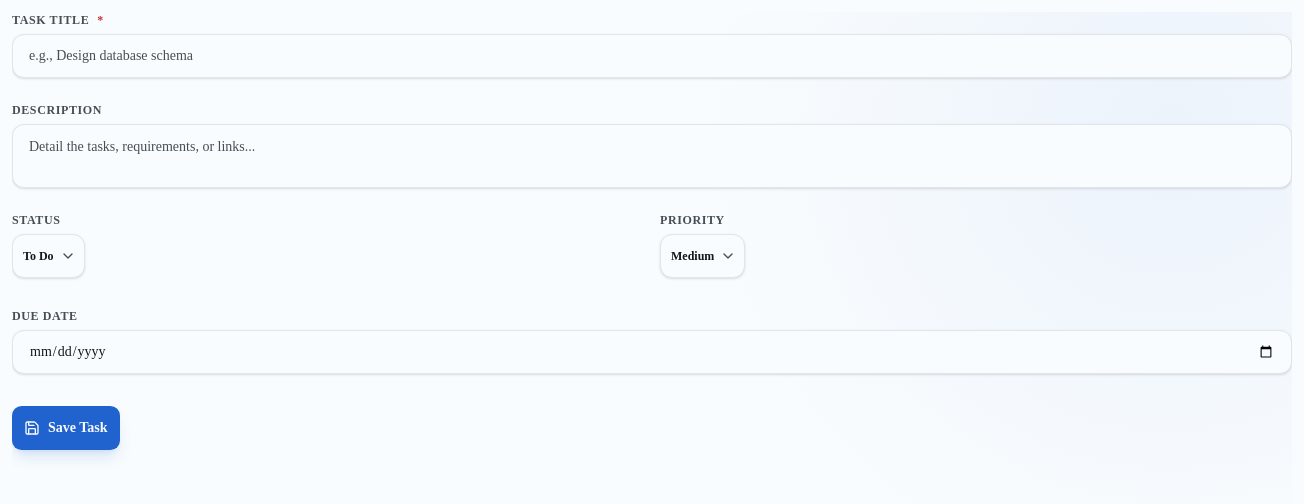
Test: TaskForm validation › should show error for empty title
The image size is (1304, 504).
Try submitting with empty title
Click the button "Save Task". click: (66, 428)
box: x1=12 y1=406 x2=120 y2=450
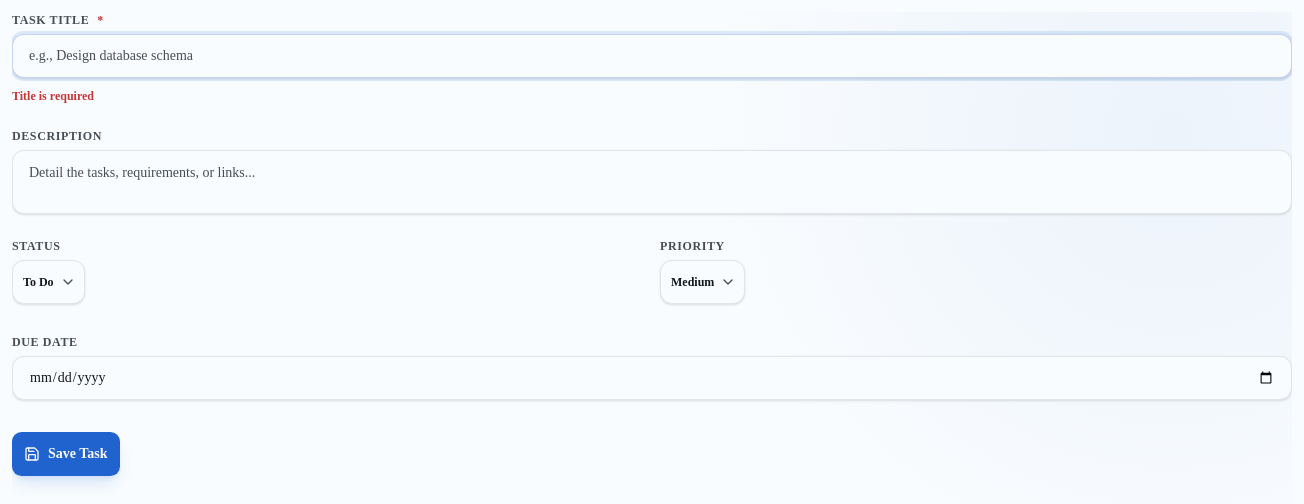
Expected: the text "Title is required" is shown, x1=12 y1=89 x2=94 y2=103
